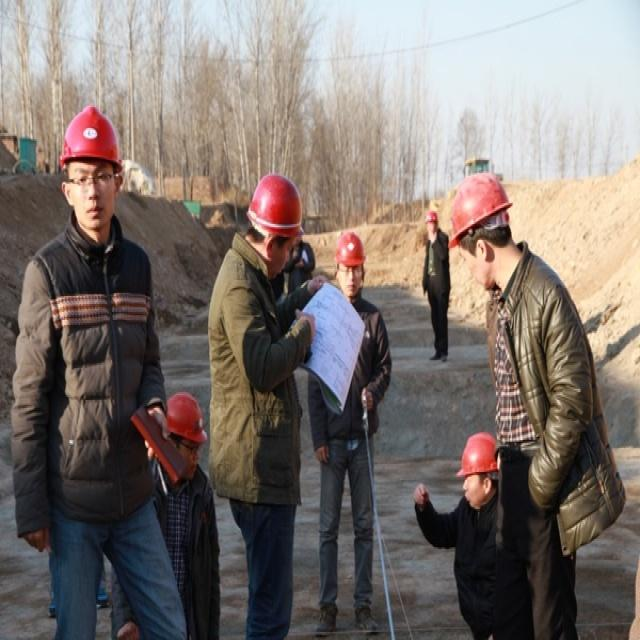helmet: (55, 136, 125, 309), (445, 227, 510, 390), (245, 224, 300, 369), (162, 519, 209, 640), (453, 572, 501, 640), (334, 306, 364, 398), (421, 278, 439, 314)
